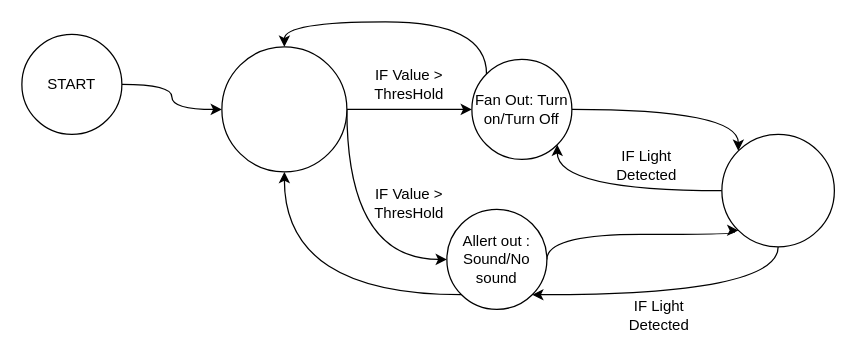
Image size: 856x355. Some labels were removed from this diagram. The centre of each missing label's shape, as x and y in pixels:
"Detecting gas Out : Serial Monitor" belongs at pixel 284 109.
"Detecting Light Out: Serial Monitor" belongs at pixel 777 190.
